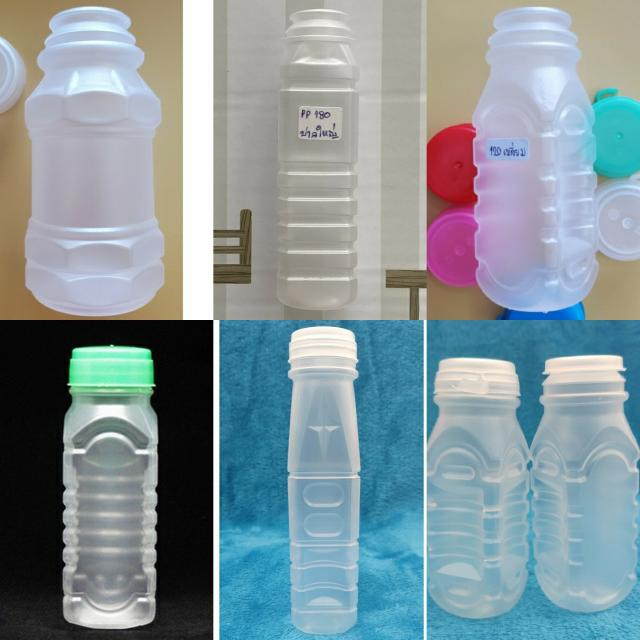Single-Use-Plastic: (25, 8, 164, 316), (472, 8, 599, 314), (530, 355, 640, 612), (62, 345, 158, 629), (426, 358, 529, 618), (276, 9, 359, 310), (288, 327, 360, 634)
